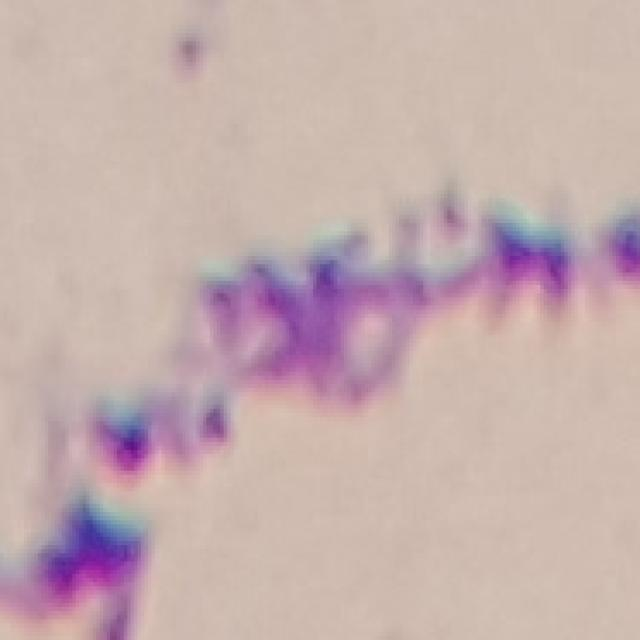non-sperm: (166, 212, 599, 382)
